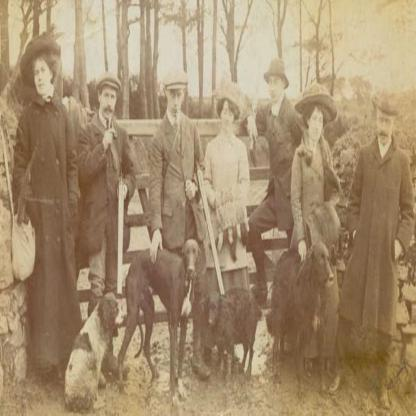face: (34, 61, 51, 95), (101, 84, 117, 119), (378, 109, 394, 144), (168, 86, 183, 117), (310, 111, 324, 141), (270, 72, 284, 101), (222, 103, 234, 132)
